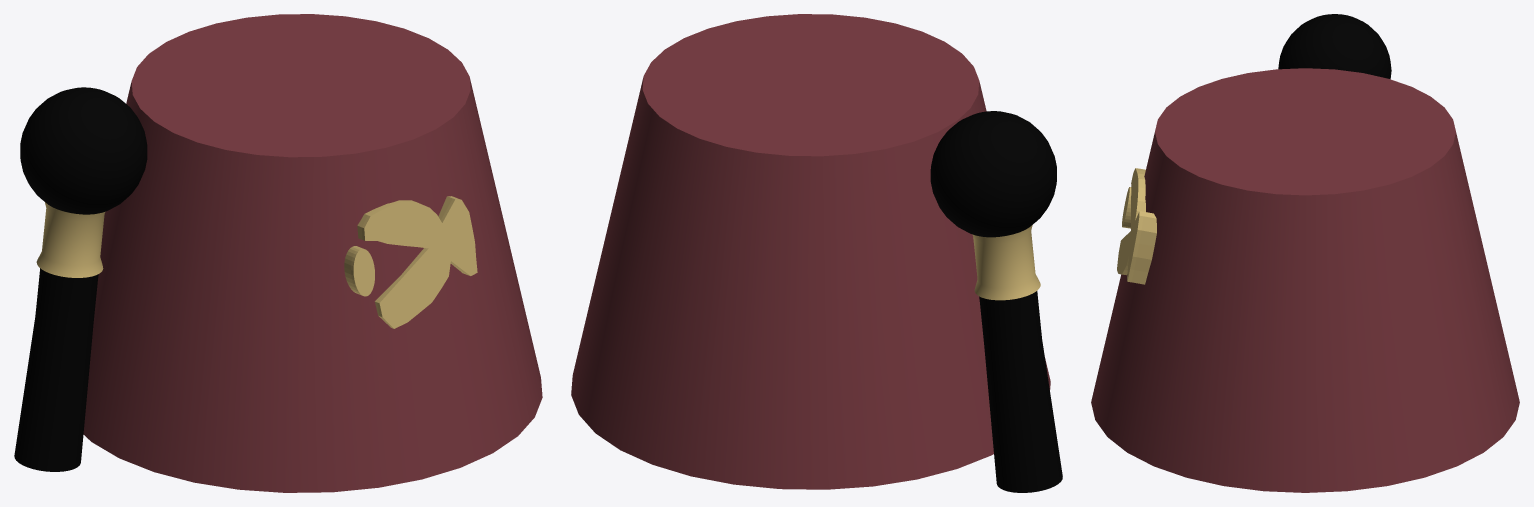
File: top_hat_.glb
3 views of the same model, side by side, from view 1: azimuth 30°, elevation 25°; view 2: azimuth 150°, elevation 25°; view 3: azimuth 270°, elevation 25° (orthographic). The views are drawn at different scales.
Parts seen in each view (by area): view 1: Cylinder.001_0; view 2: Cylinder.001_0; view 3: Cylinder.001_0.
Part boxes in pixels (left/top/right/bottom): Cylinder.001_0: left=14, top=14, right=542, bottom=492; Cylinder.001_0: left=571, top=14, right=1062, bottom=492; Cylinder.001_0: left=1091, top=14, right=1519, bottom=492.
Size of the model in its own units: 3.77 by 2.73 by 3.32.
